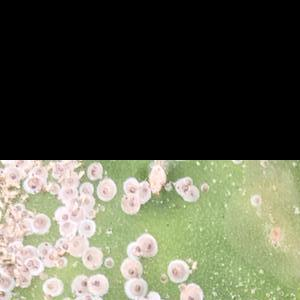Femea: (78, 277, 103, 293), (139, 233, 155, 253), (125, 283, 147, 296), (126, 241, 144, 256), (120, 262, 137, 276), (166, 263, 179, 280), (45, 251, 58, 267), (51, 242, 67, 254), (98, 185, 111, 199), (83, 253, 96, 266), (25, 178, 37, 190), (125, 181, 136, 194), (104, 258, 115, 270), (55, 213, 68, 223), (87, 166, 100, 176), (36, 244, 47, 255), (199, 183, 211, 193), (6, 173, 19, 182), (156, 274, 167, 284)
